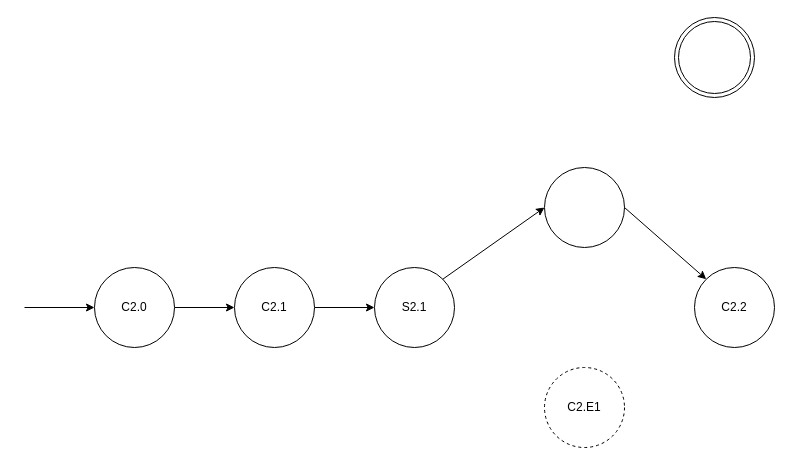
The diagram is 792 pixels wide and 465 high, and some of its shapes have lost their labels. The shapes that lost their labels are listed below. From the top down, each one's box as (x1, y1, x2, y2) in pixels, then its label:
(674, 16, 754, 98): C2.F
(544, 166, 624, 248): S2.2
